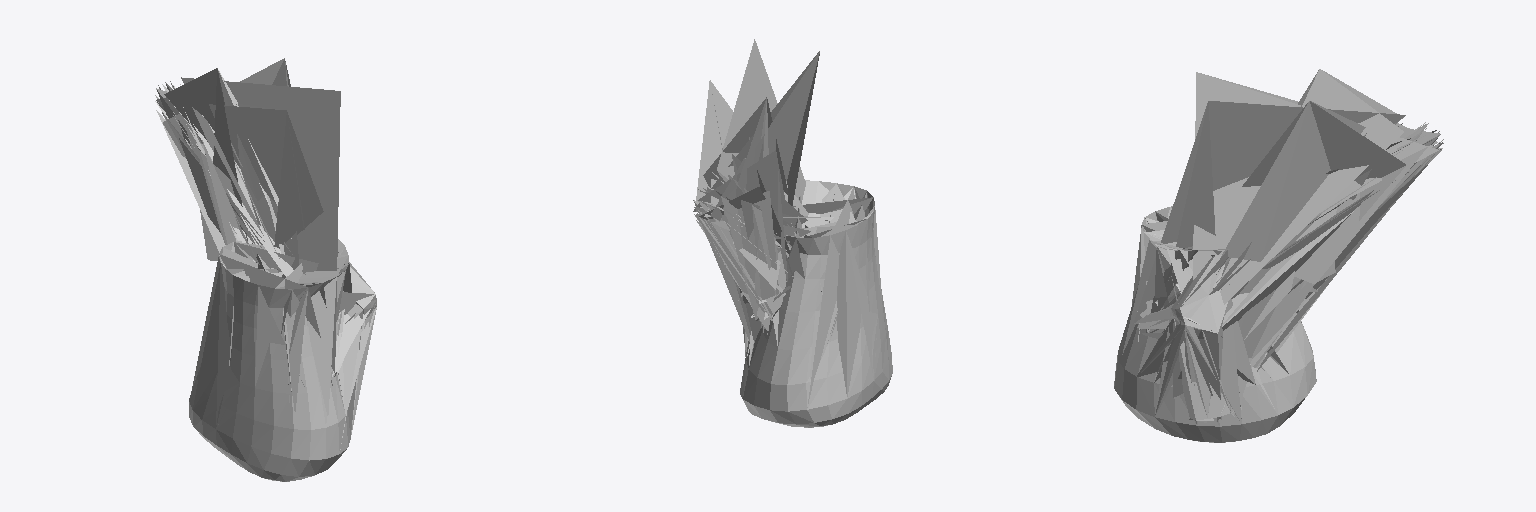
Rendered from troncoZIM.obj.
The picture shows the model from 3 angles: view 1: azimuth 30°, elevation 25°; view 2: azimuth 150°, elevation 25°; view 3: azimuth 270°, elevation 25°; orthographic projection.
Parts seen in each view (by area): view 1: Object_7, Object_10, Object_4; view 2: Object_7, Object_10, Object_4; view 3: Object_7, Object_4, Object_10.
Boxes of the visible parts, x1=… form: Object_7: x1=155, y1=58, x2=376, y2=481; Object_10: x1=192, y1=242, x2=348, y2=424; Object_4: x1=225, y1=262, x2=376, y2=449; Object_7: x1=693, y1=39, x2=892, y2=427; Object_10: x1=740, y1=181, x2=881, y2=407; Object_4: x1=742, y1=197, x2=873, y2=365; Object_7: x1=1114, y1=69, x2=1443, y2=442; Object_4: x1=1122, y1=211, x2=1288, y2=424; Object_10: x1=1122, y1=207, x2=1301, y2=408.
Size of the model in its own units: 0.1402 by 0.3235 by 0.2712.